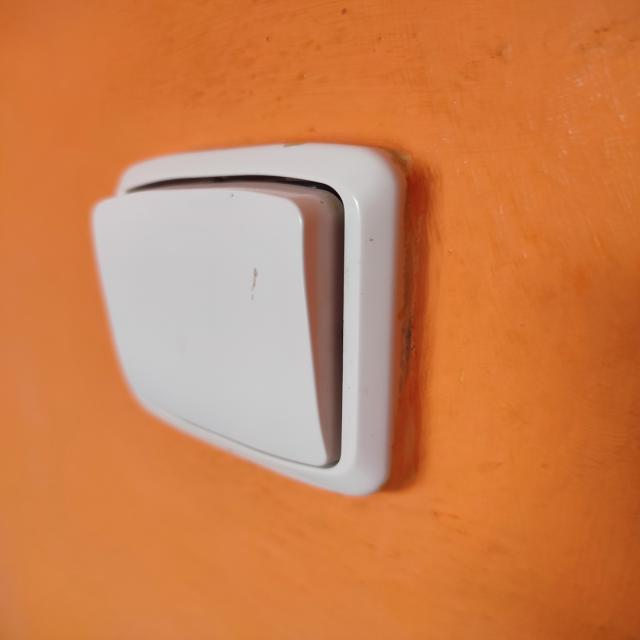house switch: (92, 145, 407, 494)
